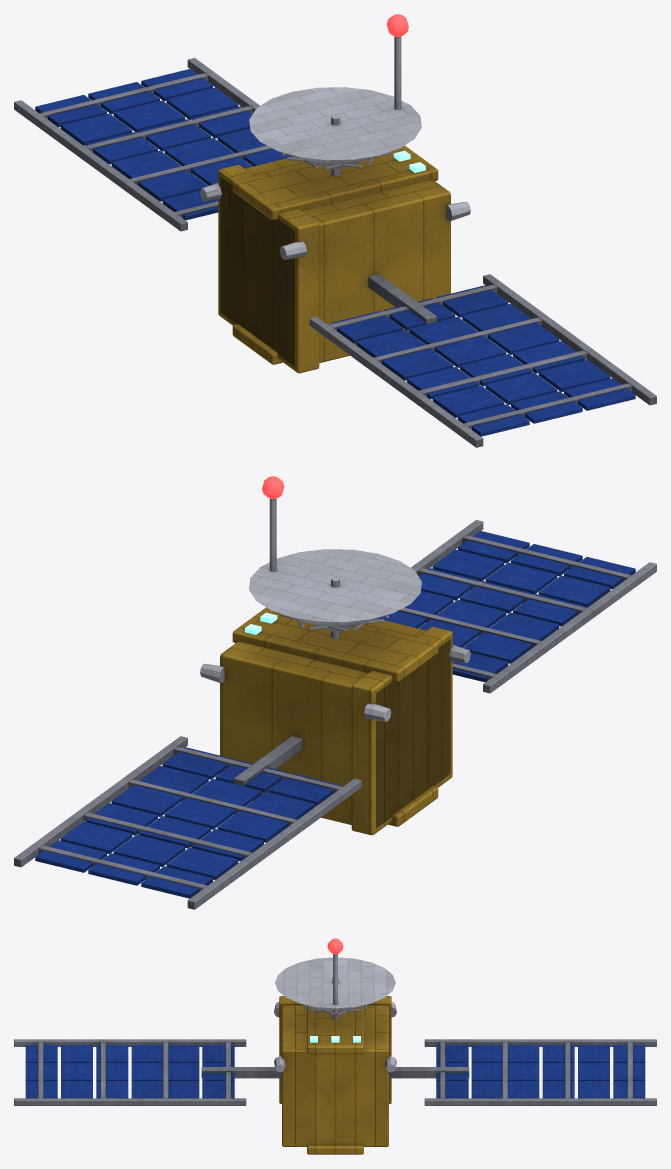
The model's file is debris_satellite.glb.
The picture shows the model from 3 angles, top to bottom: view 1: azimuth 30°, elevation 25°; view 2: azimuth 150°, elevation 25°; view 3: azimuth 270°, elevation 25°; orthographic projection. The views are drawn at different scales.
Visible parts, largest first — view 1: Body, SolarCells, Truss, Dish; view 2: Body, SolarCells, Truss, Dish; view 3: SolarCells, Body, Truss, Dish.
Part boxes in pixels (x1,y1,x2,y2): Body: (218,145,450,373); SolarCells: (35,69,635,436); Truss: (14,58,656,447); Dish: (200,36,470,259); Body: (220,607,452,835); SolarCells: (35,531,635,898); Truss: (14,520,656,909); Dish: (200,498,470,721); SolarCells: (25,1045,645,1098); Body: (279,996,391,1154); Truss: (14,1039,656,1105); Dish: (274,954,396,1072).
Bounding box in the file's own units: 8.3 × 12.9 × 36.
6 materials, 4 textured.
